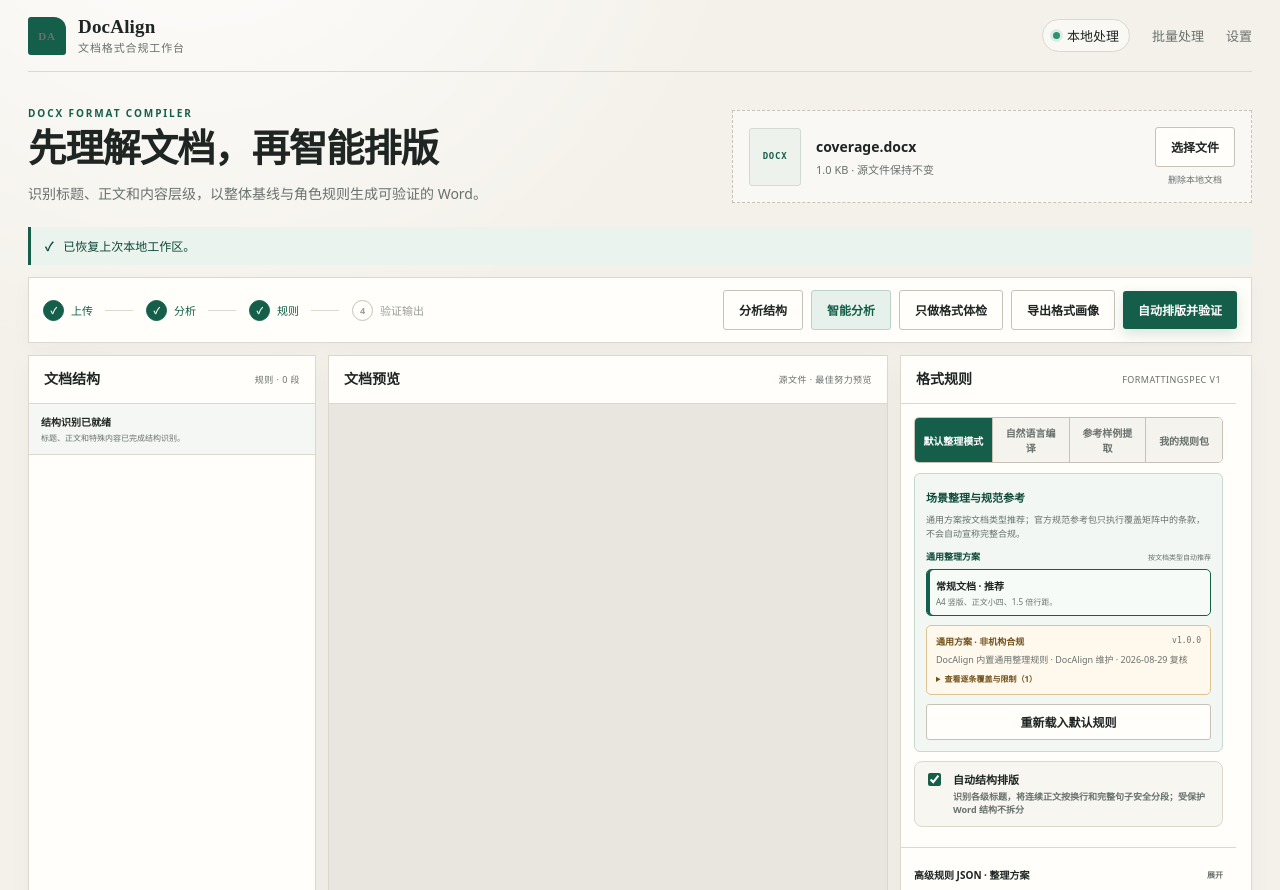
Workspace › shows the locally resolved capability coverage after compilation
Expected: the text "coverage.docx" is shown, x1=816 y1=136 x2=916 y2=156
Click the tab "自然语言编译" at (1030, 440), box x1=992 y1=418 x2=1069 y2=462
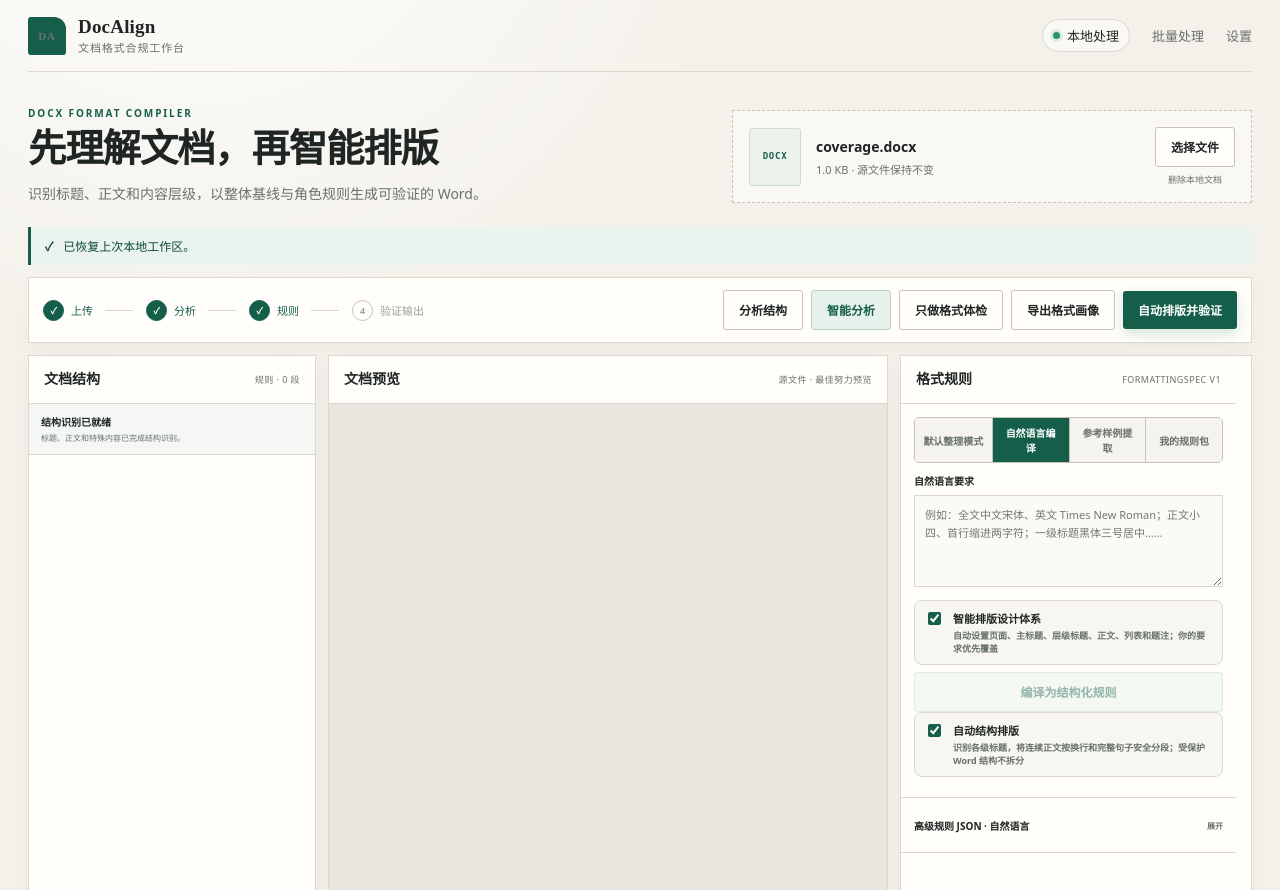
Type "所有颜色改为黑色且不需要背景" into the text box labelled "自然语言要求" at (1068, 541), box x1=914 y1=495 x2=1223 y2=587
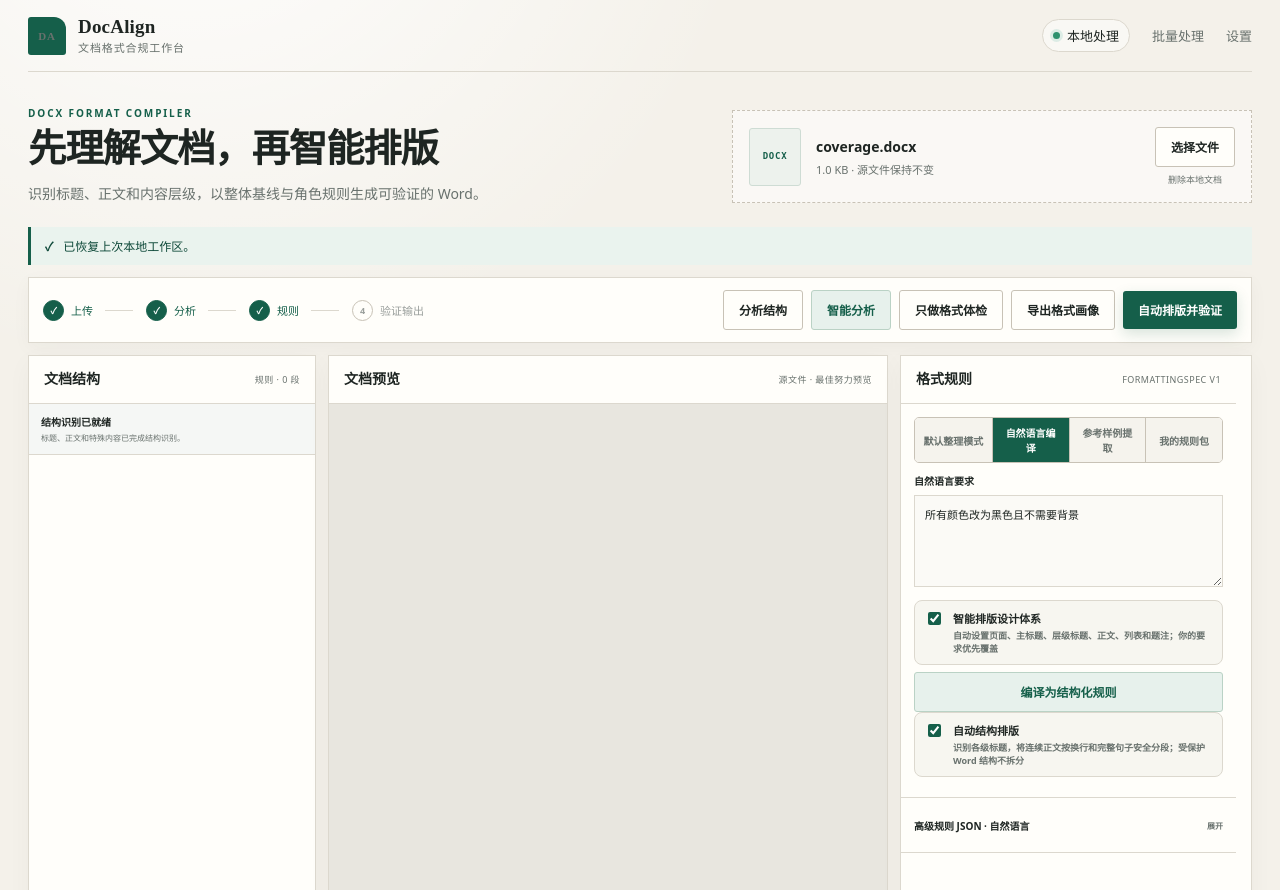
Click the button "编译为结构化规则" at (1068, 692), box x1=914 y1=672 x2=1223 y2=712
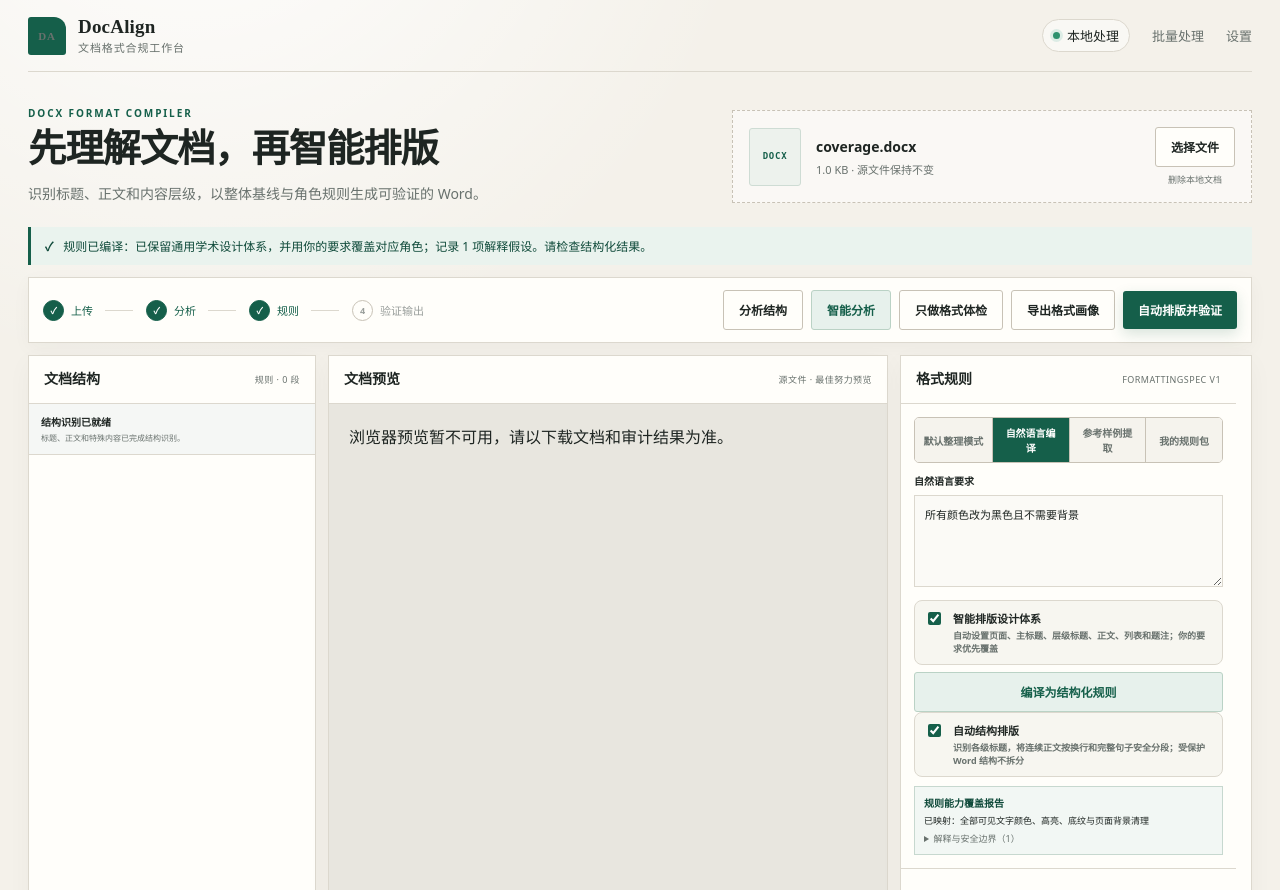
Result: the element labelled "规则能力覆盖报告" shows "全部可见文字颜色、高亮、底纹与页面背景清理" at x1=960 y1=814 x2=1149 y2=827
Result: the heading "解释与安全边界（1）" is shown at x1=934 y1=832 x2=1020 y2=845
